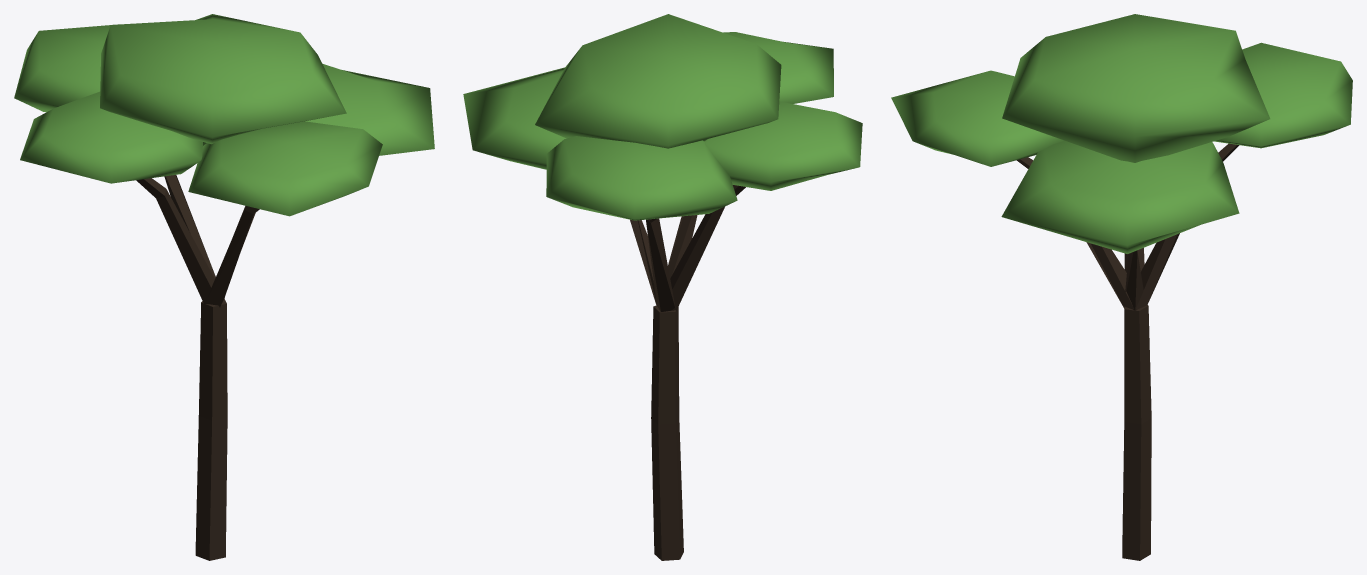
3 views of the same model, side by side, from view 1: azimuth 30°, elevation 25°; view 2: azimuth 150°, elevation 25°; view 3: azimuth 270°, elevation 25° (orthographic). The views are drawn at different scales.
Visible parts, largest first — view 1: 树_14; view 2: 树_14; view 3: 树_14.
Boxes of the visible parts, x1=… form: 树_14: x1=14, y1=14, x2=434, y2=560; 树_14: x1=463, y1=14, x2=862, y2=560; 树_14: x1=891, y1=14, x2=1352, y2=560.
Size of the model in its own units: 6.35 by 7.6 by 6.28.
